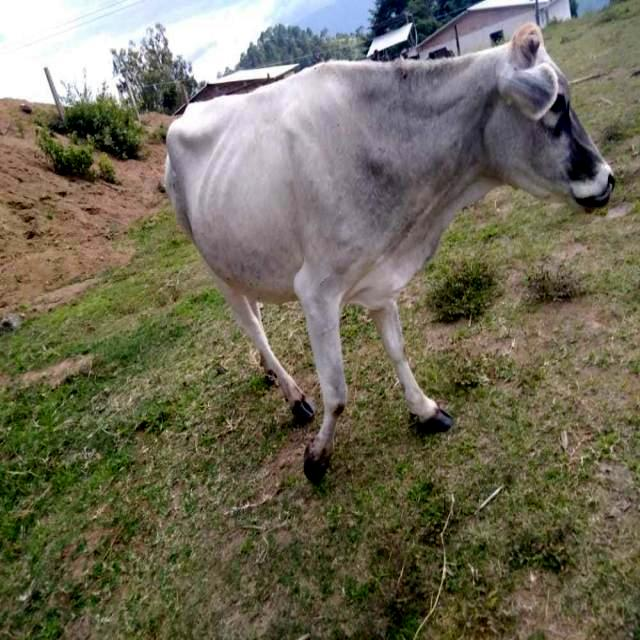COW: (166, 25, 612, 481)
